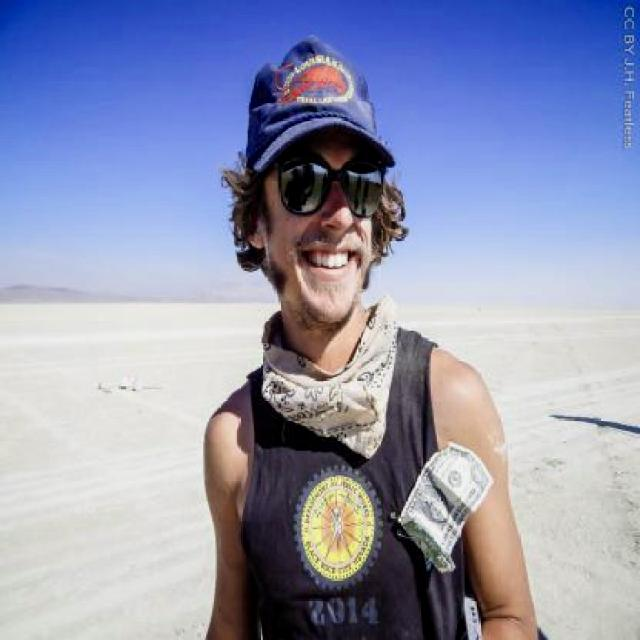face_nomask: (274, 150, 381, 285)
glasses: (249, 140, 397, 214)
head_nohelmet: (239, 46, 401, 172)
person: (202, 35, 526, 640)
